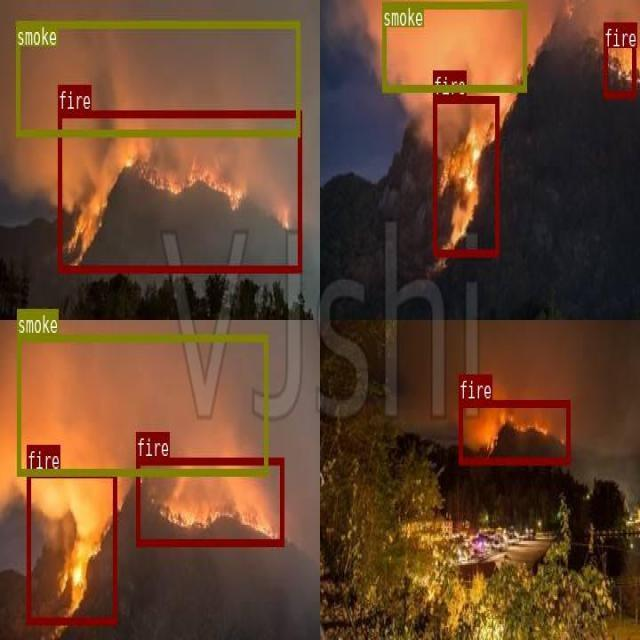fire: (58, 110, 301, 272), (26, 469, 116, 623), (135, 458, 284, 544), (433, 95, 498, 255), (459, 399, 570, 463), (603, 22, 635, 97)
smoke: (16, 334, 267, 475), (15, 20, 300, 135), (382, 2, 525, 90)
